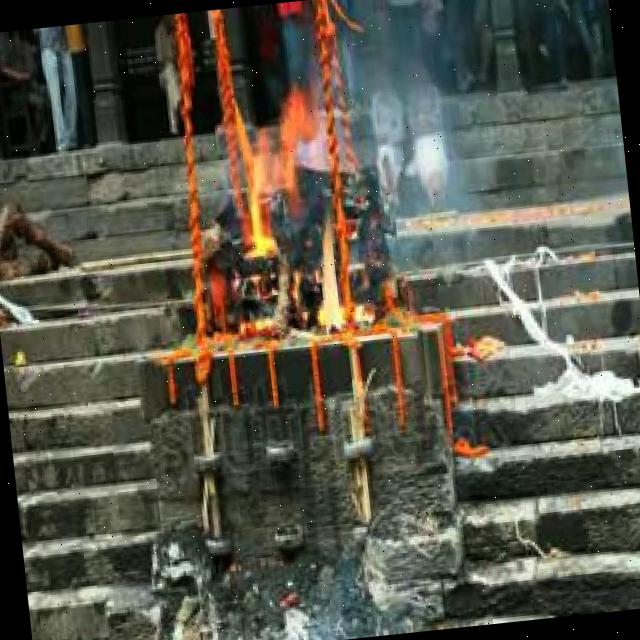fire: (228, 84, 356, 338)
